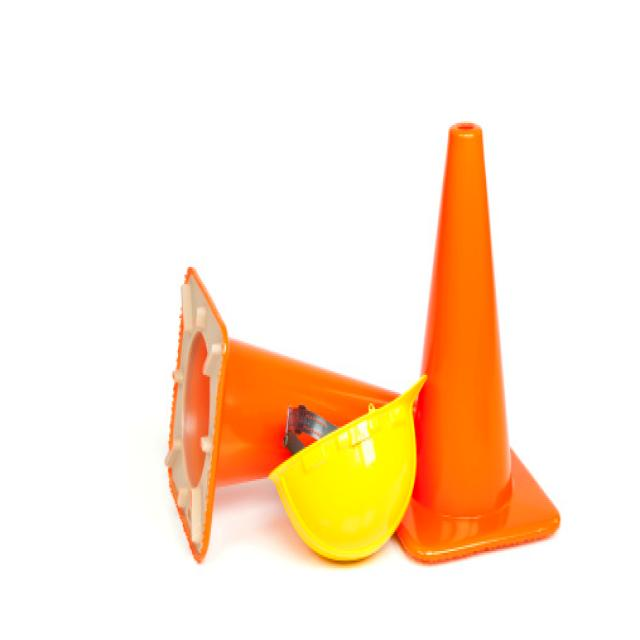cone: (399, 118, 568, 562), (160, 254, 382, 568)
